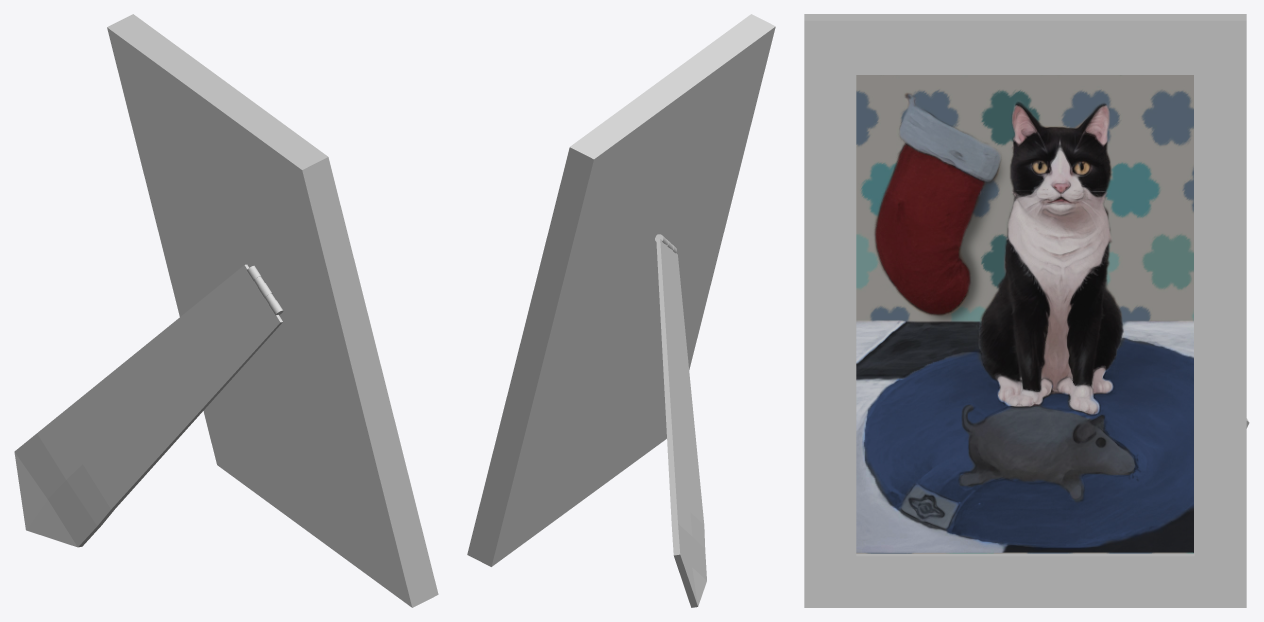
File: photo.fbx
The picture shows the model from 3 angles, left to right: view 1: azimuth 30°, elevation 25°; view 2: azimuth 150°, elevation 25°; view 3: azimuth 270°, elevation 25°; orthographic projection. The views are drawn at different scales.
Visible parts, largest first — view 1: frame; view 2: frame; view 3: photo, frame.
Part boxes in pixels (x1=…): frame: x1=14, y1=14, x2=438, y2=607; frame: x1=467, y1=14, x2=775, y2=607; photo: x1=856, y1=75, x2=1193, y2=553; frame: x1=804, y1=14, x2=1249, y2=607.
Bounding box in the file's own units: 56.03 × 110 × 81.91.
